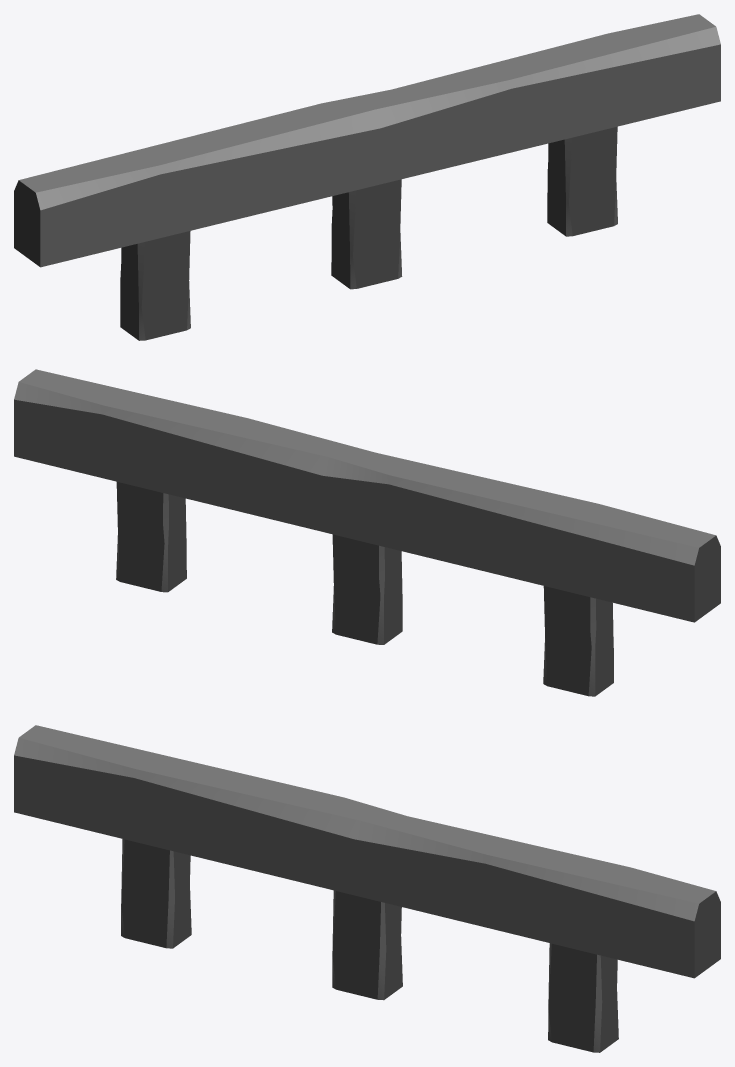
The model's file is 20C_low_fence_02.fbx.
The picture shows the model from 3 angles, top to bottom: view 1: azimuth 30°, elevation 25°; view 2: azimuth 150°, elevation 25°; view 3: azimuth 330°, elevation 25°; orthographic projection.
Parts seen in each view (by area): view 1: 20C_low_fence_02; view 2: 20C_low_fence_02; view 3: 20C_low_fence_02.
Boxes of the visible parts, x1,y1,x2,y2 form: 20C_low_fence_02: [14, 14, 720, 340]; 20C_low_fence_02: [14, 369, 720, 696]; 20C_low_fence_02: [14, 725, 720, 1052].
Bounding box in the file's own units: 19.94 × 4.84 × 1.34.
